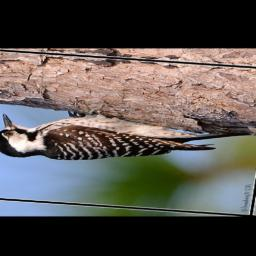Woodpecker: (0, 102, 256, 177)
